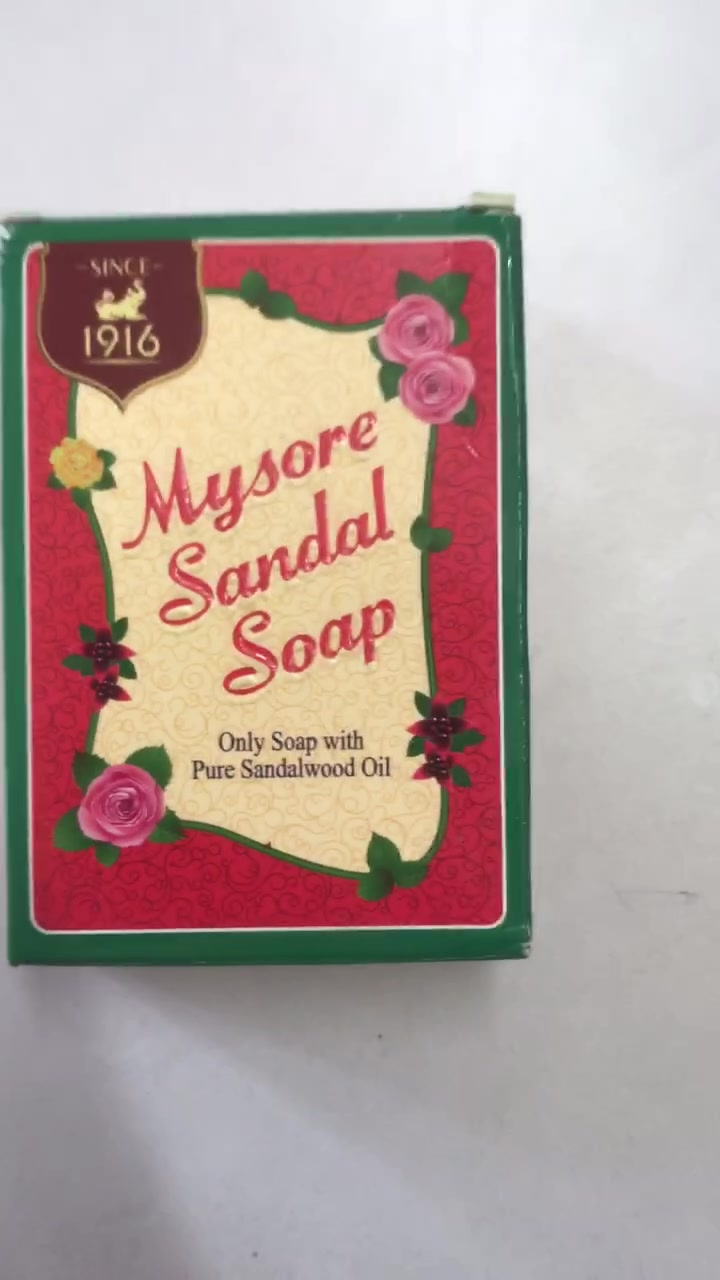mysore sandal soap: (3, 218, 526, 963)
